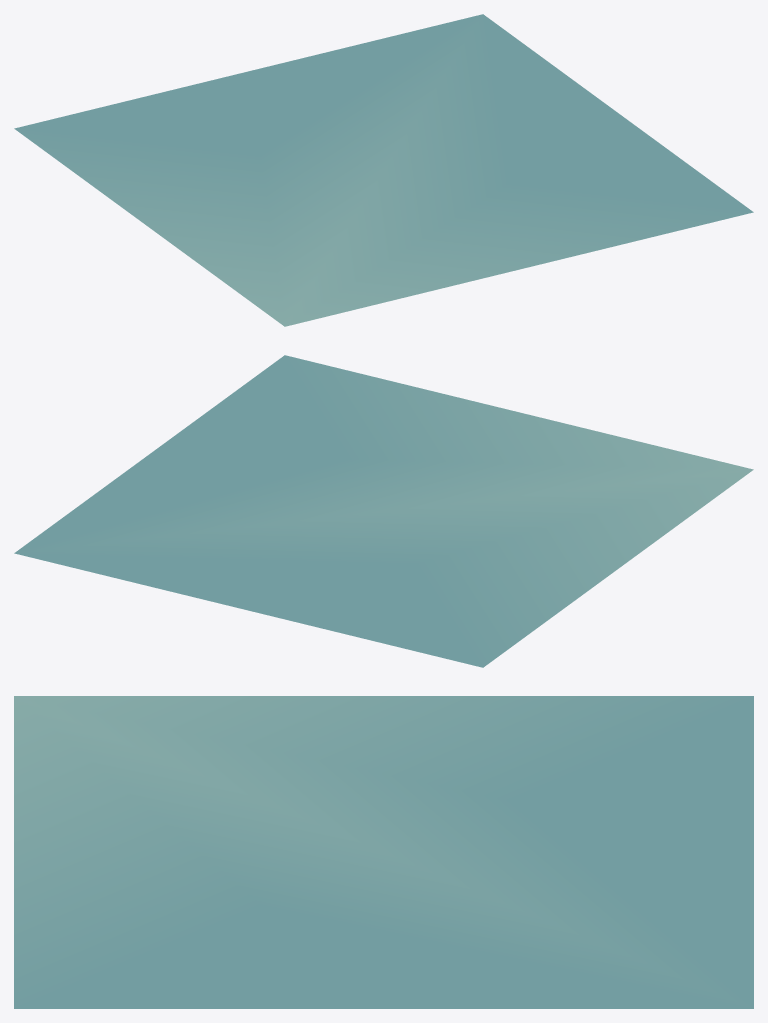
Rendered from water-21-11.glb.
3 renders of one model, top to bottom at view 1: azimuth 30°, elevation 25°; view 2: azimuth 150°, elevation 25°; view 3: azimuth 270°, elevation 25°, orthographic. The views are drawn at different scales.
Size of the model in its own units: 16 by 0 by 16.
